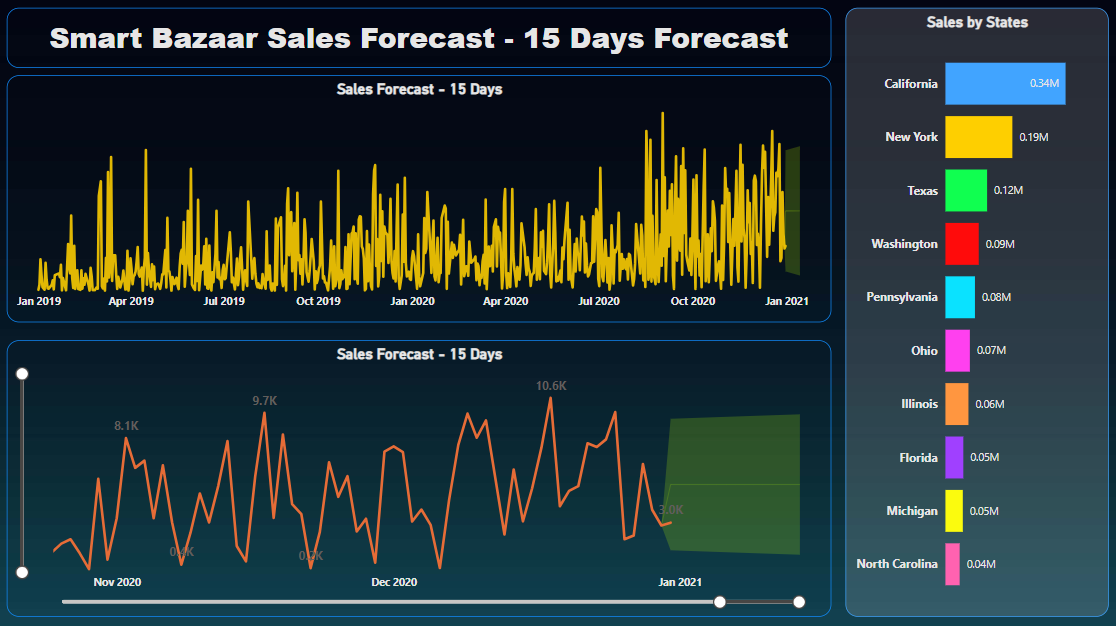

The dashboard page shown, as its layout file describes it:
{"tool":"powerbi","page":{"name":"Page 2","canvas":[1280,720],"ordinal":1},"visuals":[{"type":"lineChart","title":"Sales Forecast - 15 Days","fields":{"Y":["Sum(SuperStore_Sales_Dataset.Sales)"],"Category":["SuperStore_Sales_Dataset.Order Date"]},"box":[9.7,86.9,942.2,282.3],"z":0},{"type":"lineChart","title":"Sales Forecast - 15 Days","fields":{"Y":["Sum(SuperStore_Sales_Dataset.Sales)"],"Category":["SuperStore_Sales_Dataset.Order Date"]},"box":[9.7,389.7,942.2,316.1],"z":1000},{"type":"clusteredBarChart","title":"Sales by States","fields":{"Y":["Sum(SuperStore_Sales_Dataset.Sales)"],"Category":["SuperStore_Sales_Dataset.State"]},"box":[968.8,9.7,300.4,696.1],"z":2000},{"type":"textbox","box":[9.7,9.7,942.2,68.8],"z":3000}]}

Visuals, with their boxes in screenshot pixels (x1, y1, x2, y2), scaled from the page's 1280x720 canvas onto the 1116x626 screenshot:
"Sales Forecast - 15 Days" lineChart: 8:76:830:321
"Sales Forecast - 15 Days" lineChart: 8:339:830:614
"Sales by States" clusteredBarChart: 845:8:1107:614
textbox: 8:8:830:68
